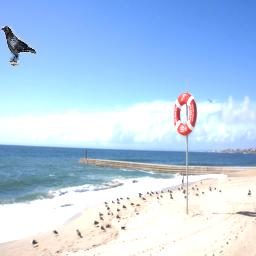Crow: (1, 26, 36, 66)
